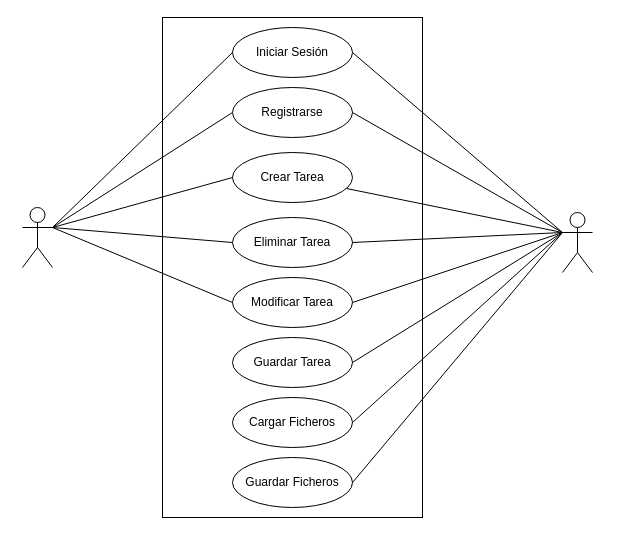
This 641x535 diagram has some shape labels left out. The shapes that lost their labels are listed below. From the top down, each one's box as (x1, y1, x2, y2) in pixels, then its label:
(22, 206, 52, 268): Usuario
(562, 212, 592, 272): Gestor de Tareas
